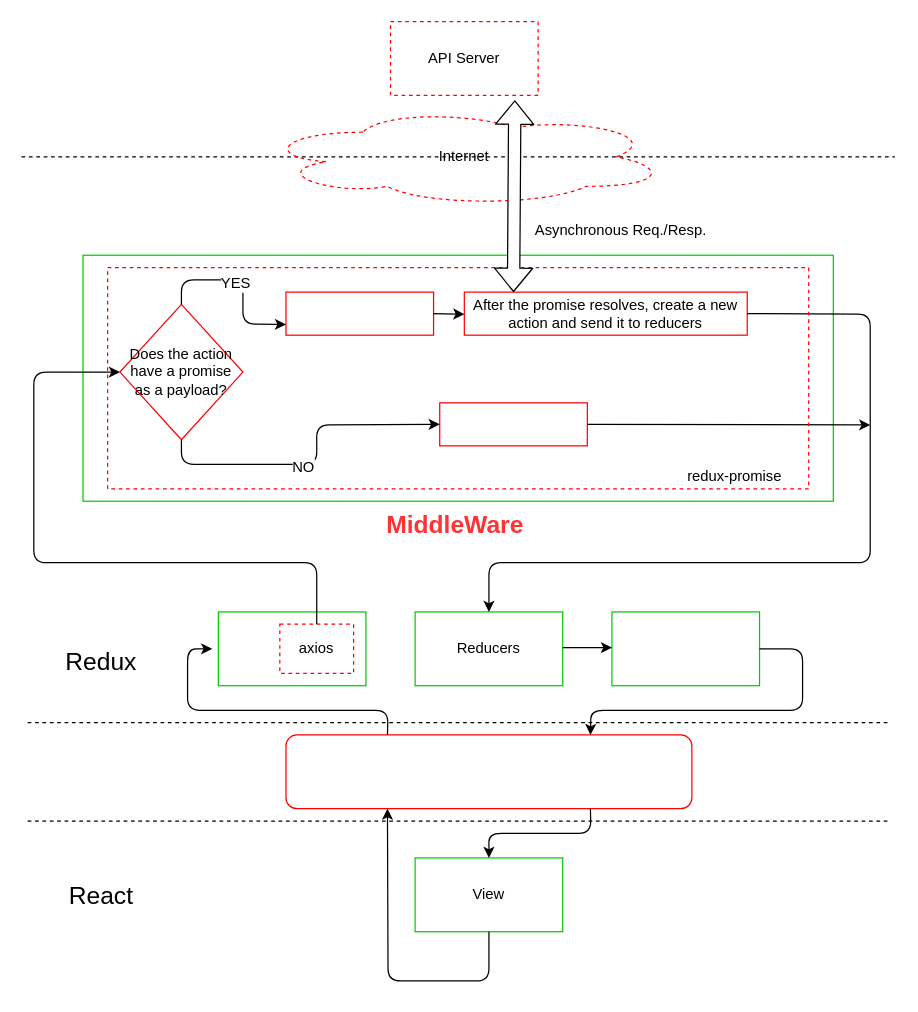
This 918x1012 diagram has some shape labels left out. The shapes that lost their labels are listed below. From the top down, each one's centre as x and y in pixels, then its label:
At [359,313]: "Stop the action!".
At [512,424]: "Let it go through".
At [685,648]: "Store".
At [488,771]: "React-Redux".
